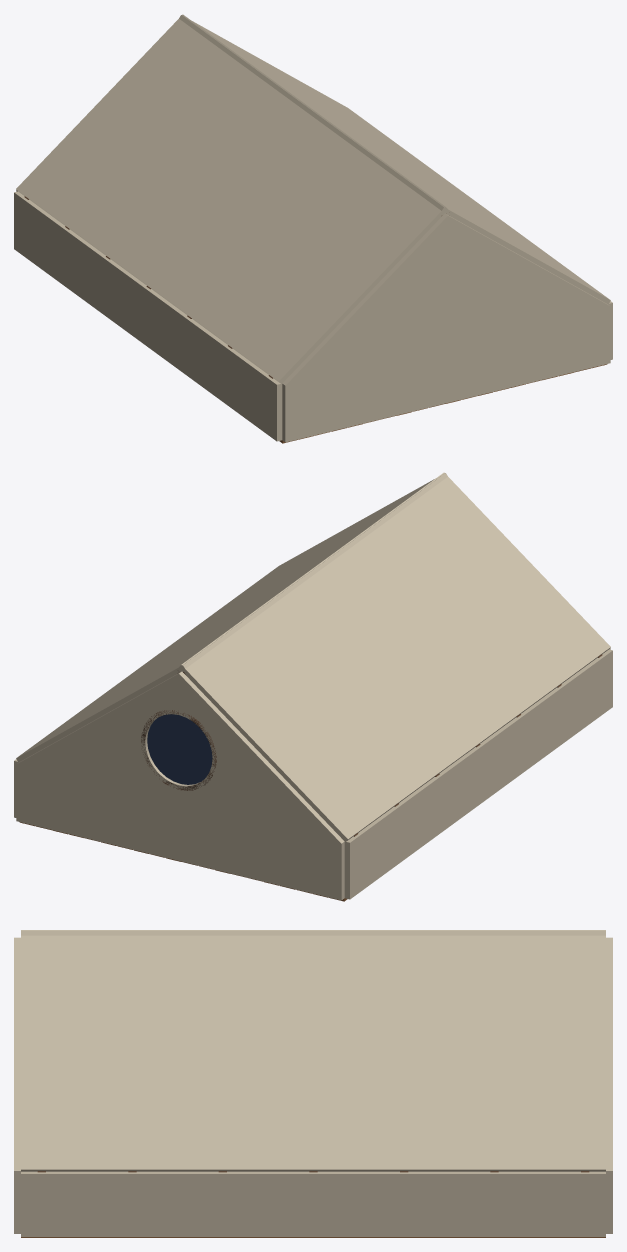
File: attic.glb
3 views of the same model, one above another, from view 1: azimuth 30°, elevation 25°; view 2: azimuth 150°, elevation 25°; view 3: azimuth 270°, elevation 25° (orthographic). The views are drawn at different scales.
Parts seen in each view (by area): view 1: attic_shell; view 2: attic_shell, attic_shell_glass; view 3: attic_shell.
Boxes of the visible parts, x1,y1,x2,y2 form: attic_shell: [14, 14, 612, 443]; attic_shell: [14, 472, 612, 901]; attic_shell_glass: [147, 714, 212, 784]; attic_shell: [14, 930, 612, 1237].
Bounding box in the file's own units: 6.2 × 3.48 × 8.6.
